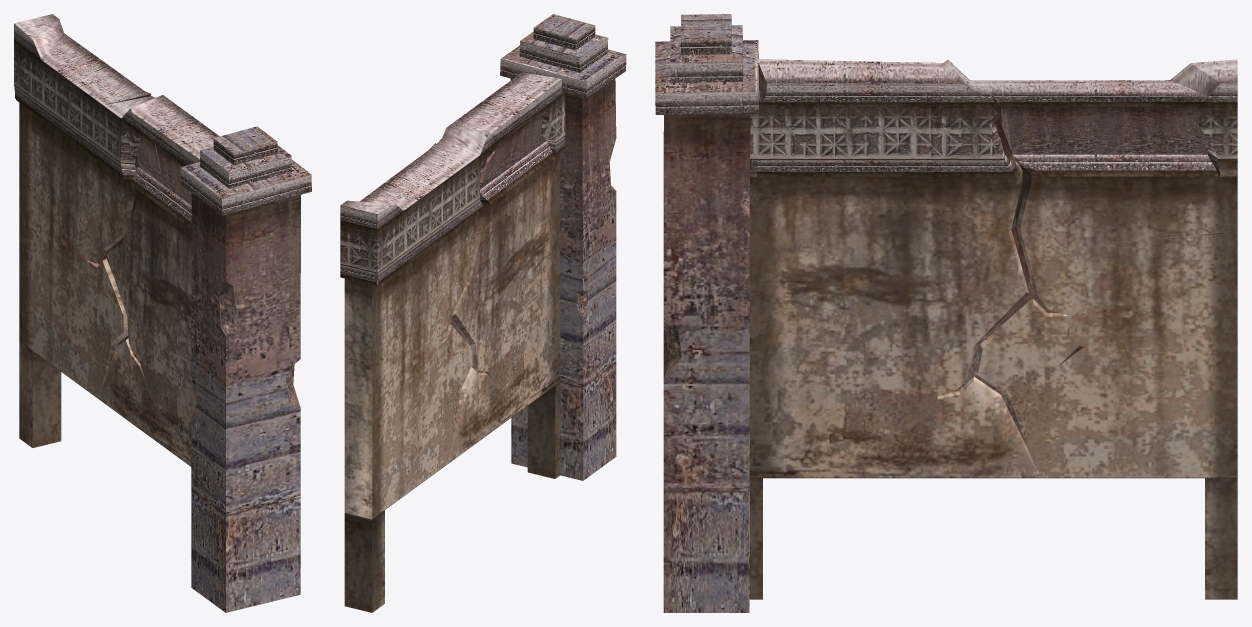
The model's file is MWalB2X.glb.
3 renders of one model, left to right at view 1: azimuth 30°, elevation 25°; view 2: azimuth 150°, elevation 25°; view 3: azimuth 270°, elevation 25°, orthographic. The views are drawn at different scales.
Parts seen in each view (by area): view 1: _MWalB2X; view 2: _MWalB2X; view 3: _MWalB2X.
Part boxes in pixels (bbox=[...]): _MWalB2X: bbox=[14, 14, 311, 612]; _MWalB2X: bbox=[340, 14, 626, 612]; _MWalB2X: bbox=[655, 14, 1237, 612].
Size of the model in its own units: 0.9044 by 4.34 by 4.06.
Materials: 3 (3 with a texture image).
